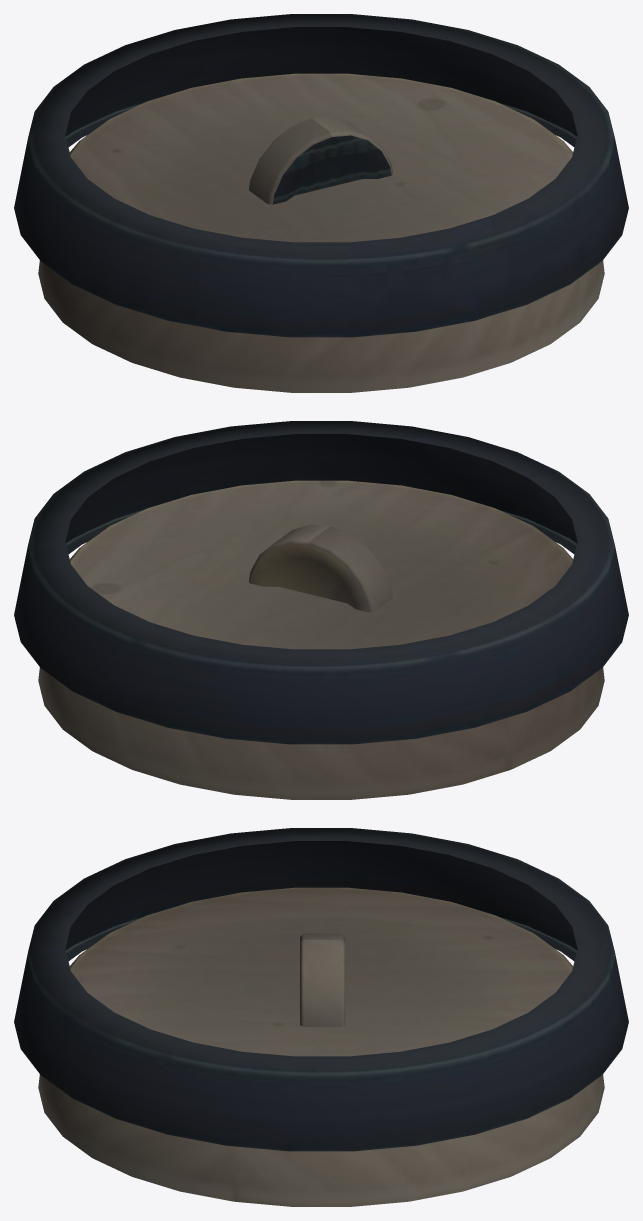
File: blackrock.glb
3 renders of one model, top to bottom at view 1: azimuth 30°, elevation 25°; view 2: azimuth 150°, elevation 25°; view 3: azimuth 270°, elevation 25°, orthographic.
Parts seen in each view (by area): view 1: Pedestal_Blackrock; view 2: Pedestal_Blackrock; view 3: Pedestal_Blackrock.
Part boxes in pixels (left/top/right/bottom): Pedestal_Blackrock: left=14, top=14, right=628, bottom=392; Pedestal_Blackrock: left=14, top=421, right=628, bottom=799; Pedestal_Blackrock: left=14, top=828, right=628, bottom=1206.
Size of the model in its own units: 2.83 by 0.7566 by 2.85.
Materials: 1 (1 with a texture image).
